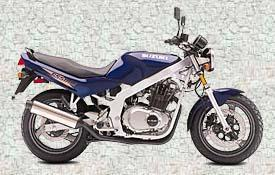motorcycle: (12, 5, 271, 168)
